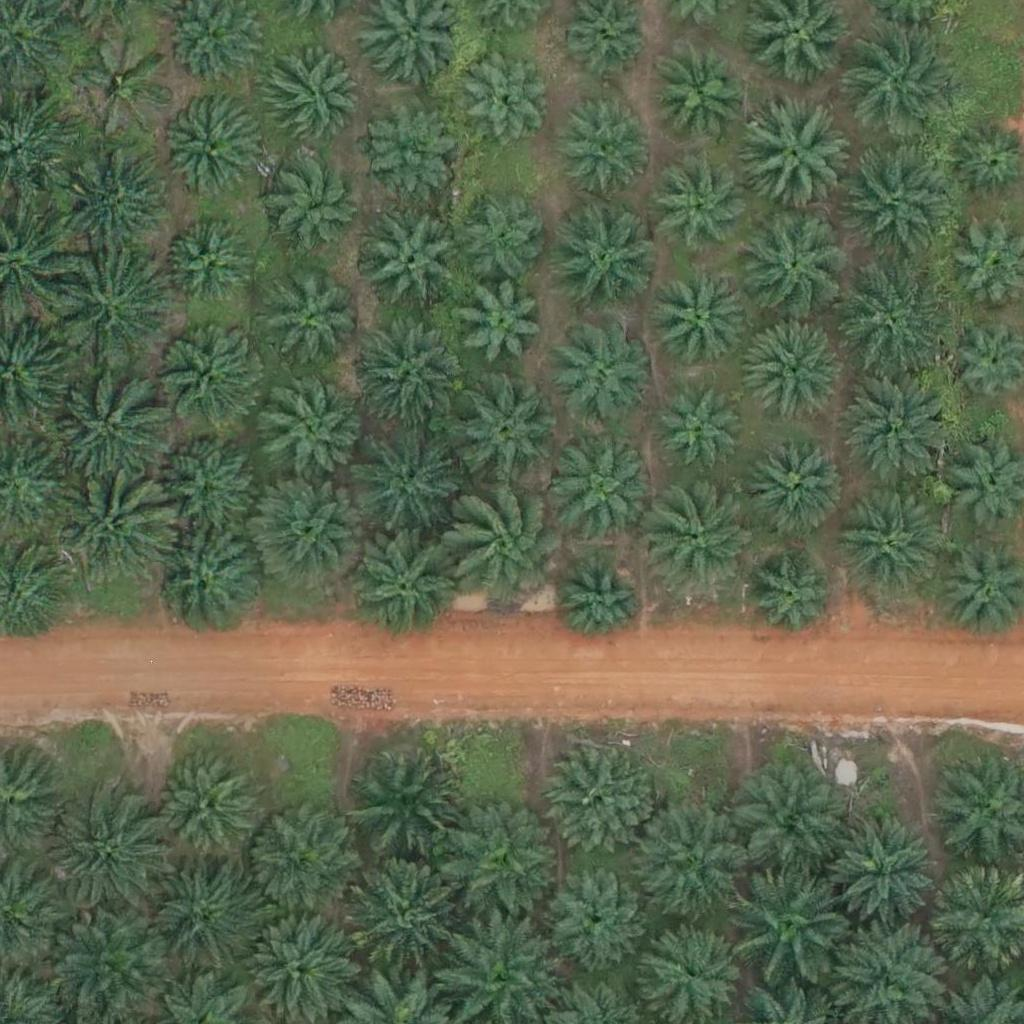Kelapa_Sawit: (446, 486, 571, 612), (830, 815, 943, 929), (844, 146, 957, 260), (736, 866, 849, 979), (543, 747, 656, 860), (441, 808, 554, 921), (244, 804, 357, 917), (245, 908, 358, 1021), (142, 863, 255, 976), (56, 909, 169, 1022), (734, 102, 847, 215), (350, 323, 463, 436), (350, 424, 463, 537), (346, 531, 459, 644), (51, 368, 164, 481), (54, 139, 167, 252), (640, 804, 752, 918), (832, 487, 944, 601), (54, 253, 166, 367), (734, 767, 846, 880), (353, 744, 465, 857), (346, 855, 458, 968), (50, 797, 162, 910), (847, 25, 959, 138), (835, 265, 947, 378), (843, 377, 955, 490), (737, 209, 849, 322), (647, 483, 759, 596), (446, 375, 558, 488), (255, 479, 367, 592), (149, 525, 261, 638), (54, 473, 166, 586), (642, 920, 742, 1021), (544, 861, 644, 962), (152, 757, 252, 858), (748, 435, 848, 536), (651, 43, 751, 144), (653, 160, 753, 261), (649, 271, 749, 372), (554, 92, 654, 193), (553, 211, 653, 312), (550, 320, 650, 421), (366, 216, 466, 317), (259, 49, 359, 150), (264, 149, 364, 250), (260, 381, 360, 482), (162, 100, 262, 201), (161, 326, 261, 427), (747, 318, 847, 418), (555, 443, 655, 543), (358, 99, 458, 199), (162, 428, 262, 528), (74, 35, 174, 135), (749, 558, 837, 646), (164, 225, 252, 313), (661, 386, 748, 475), (556, 558, 643, 646), (460, 53, 547, 141), (460, 194, 547, 282), (457, 282, 544, 370), (268, 277, 355, 365)
